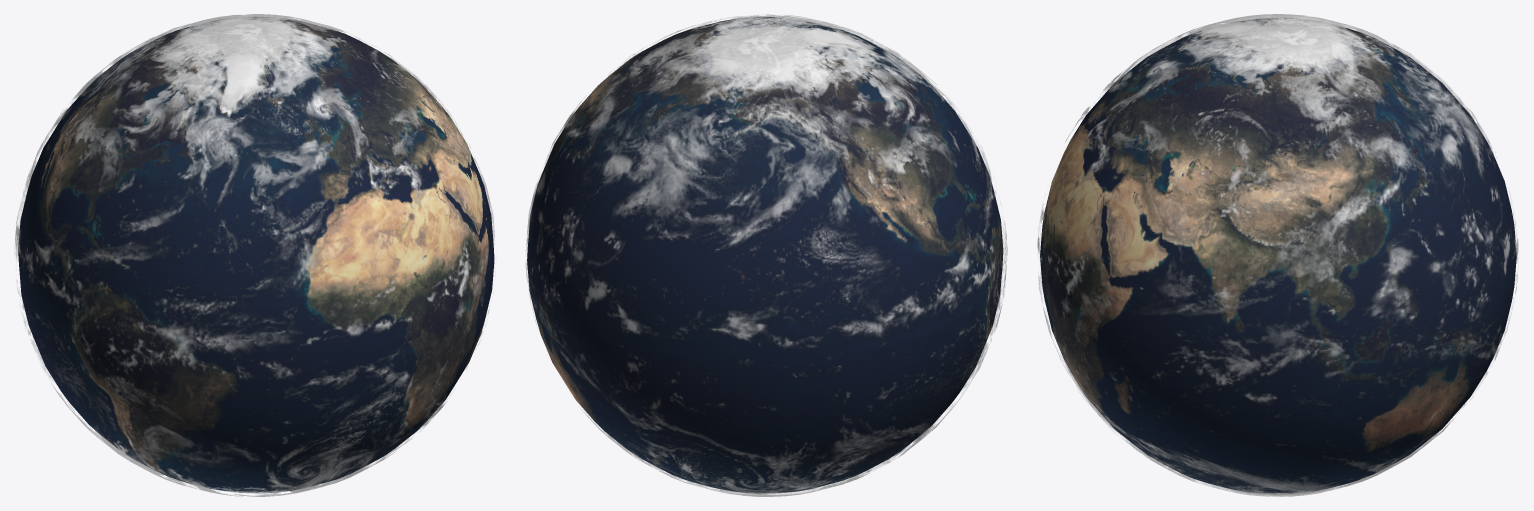
Rendered from earth5.glb.
The picture shows the model from 3 angles, left to right: view 1: azimuth 30°, elevation 25°; view 2: azimuth 150°, elevation 25°; view 3: azimuth 270°, elevation 25°; orthographic projection.
Parts seen in each view (by area): view 1: _1_-_Default_1, _2_-_Default_1; view 2: _1_-_Default_1, _2_-_Default_1; view 3: _1_-_Default_1, _2_-_Default_1.
Part boxes in pixels (<box>): _1_-_Default_1: <box>18,17,494,493</box>; _2_-_Default_1: <box>15,14,494,496</box>; _1_-_Default_1: <box>527,17,1003,493</box>; _2_-_Default_1: <box>526,14,1007,496</box>; _1_-_Default_1: <box>1040,18,1516,494</box>; _2_-_Default_1: <box>1037,14,1518,496</box>.
Bounding box in the file's own units: 0.8366 × 0.8366 × 0.8366.
Materials: 2 (2 with a texture image).
